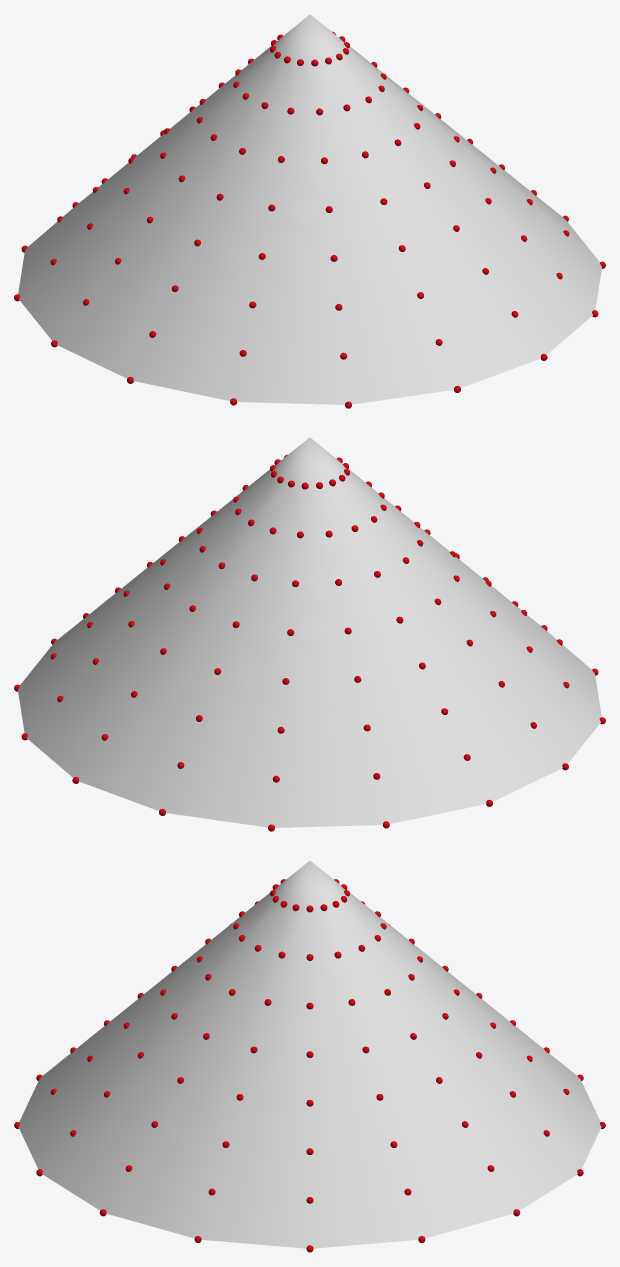
Rendered from cone-multi-subdivide.glb.
3 views of the same model, one above another, from view 1: azimuth 30°, elevation 25°; view 2: azimuth 150°, elevation 25°; view 3: azimuth 270°, elevation 25° (orthographic).
Visible parts, largest first — view 1: cone-multi-subdivide; view 2: cone-multi-subdivide; view 3: cone-multi-subdivide.
Part boxes in pixels (left/top/right/bottom): cone-multi-subdivide: left=14, top=14, right=605, bottom=408; cone-multi-subdivide: left=14, top=437, right=605, bottom=831; cone-multi-subdivide: left=14, top=861, right=605, bottom=1252.
Bounding box in the file's own units: 2.02 × 1.01 × 2.03.
